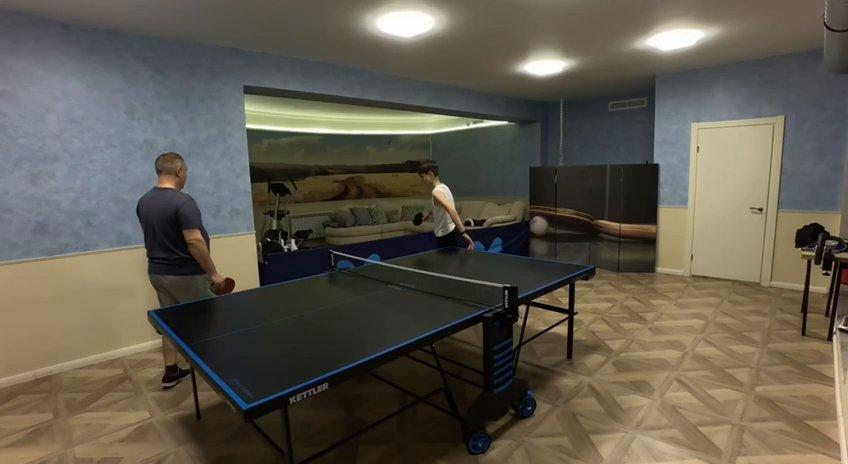Net: (327, 251, 515, 308)
Player1: (419, 160, 473, 248)
Player2: (136, 152, 224, 303)
Table: (149, 247, 594, 409)
